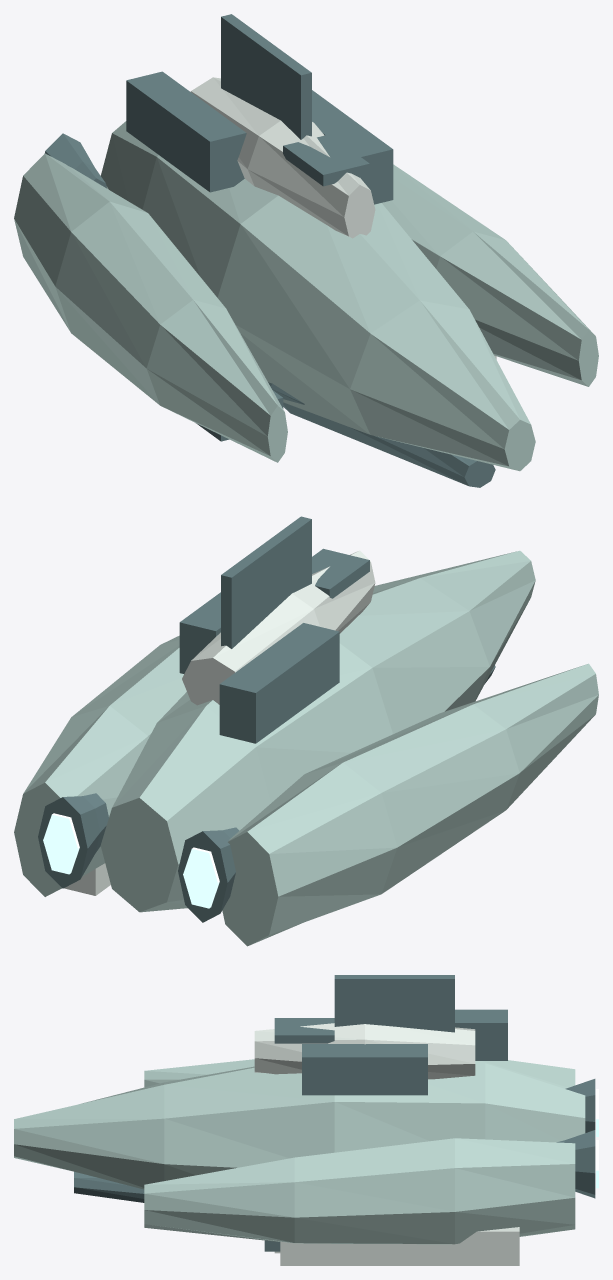
3 renders of one model, top to bottom at view 1: azimuth 30°, elevation 25°; view 2: azimuth 150°, elevation 25°; view 3: azimuth 270°, elevation 25°, orthographic. The views are drawn at different scales.
Bounding box in the file's own units: 6.16 × 5.2 × 11.14.
